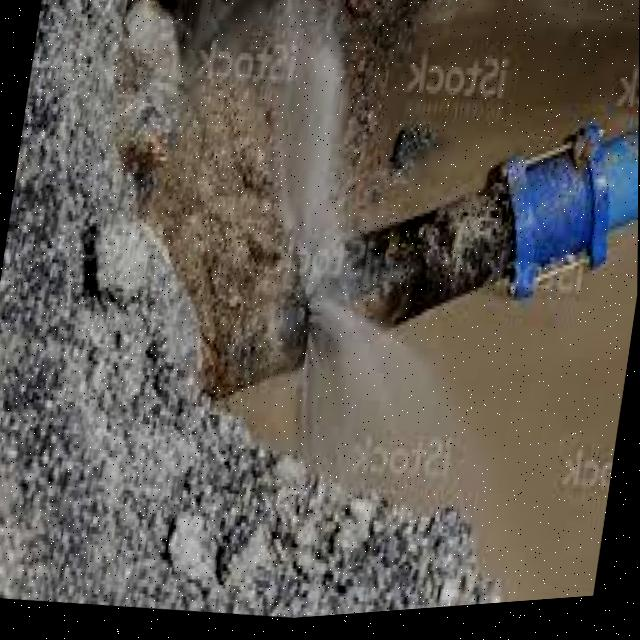corrosion: (222, 164, 434, 474)
